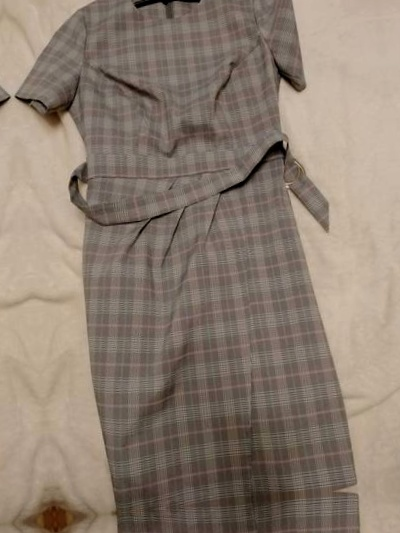Dress: (6, 0, 383, 514), (0, 0, 50, 533), (59, 492, 400, 533), (0, 526, 103, 533)
